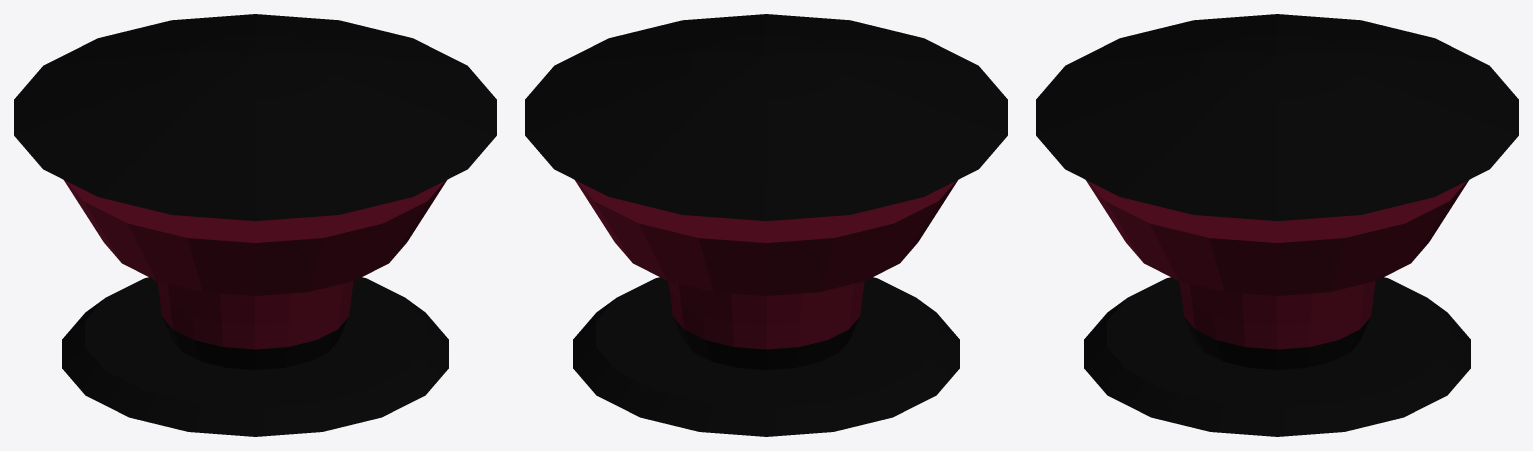
Rendered from Bumper002.FBX.
The picture shows the model from 3 angles, left to right: view 1: azimuth 30°, elevation 25°; view 2: azimuth 150°, elevation 25°; view 3: azimuth 270°, elevation 25°; orthographic projection.
Parts seen in each view (by area): view 1: Cylinder001; view 2: Cylinder001; view 3: Cylinder001.
Boxes of the visible parts, x1,y1,x2,y2 form: Cylinder001: [14, 14, 496, 436]; Cylinder001: [525, 14, 1007, 436]; Cylinder001: [1036, 14, 1518, 436].
Size of the model in its own units: 0.5664 by 0.3811 by 0.5578.
